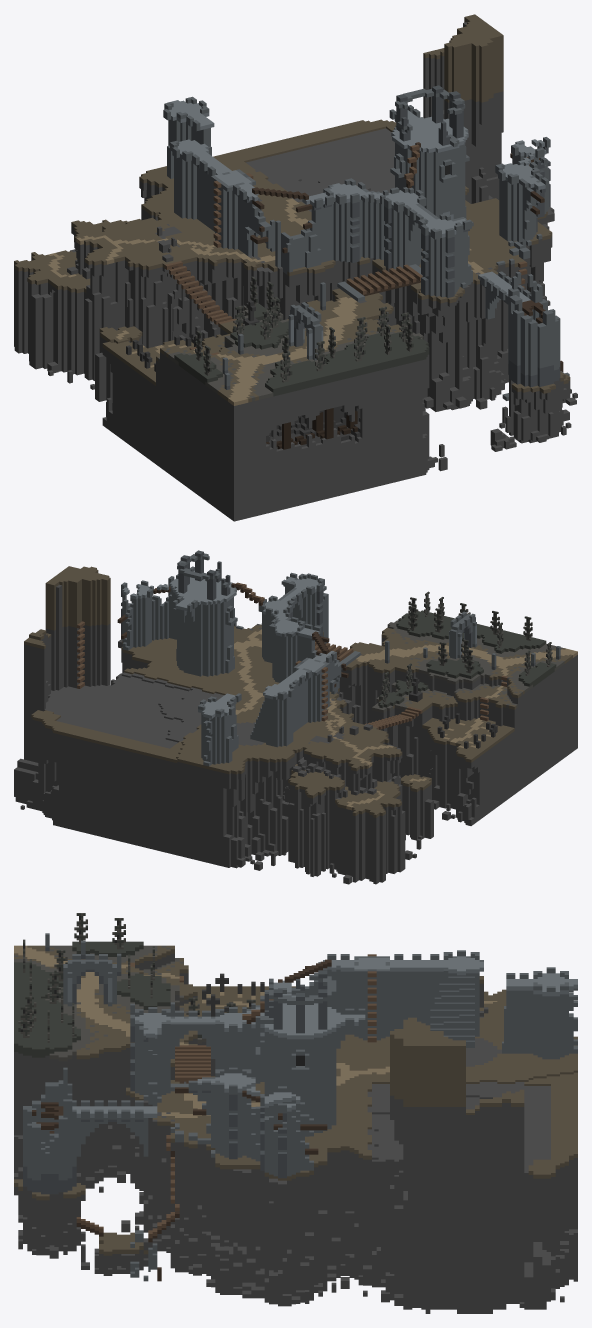
Rendered from Sunken City - Voxel Ruins 1-0-land.obj.
3 renders of one model, top to bottom at view 1: azimuth 30°, elevation 25°; view 2: azimuth 150°, elevation 25°; view 3: azimuth 270°, elevation 25°, orthographic. The views are drawn at different scales.
Parts seen in each view (by area): view 1: land; view 2: land; view 3: land.
Part boxes in pixels (x1,y1,x2,y2): land: (14,14,577,521); land: (14,550,577,884); land: (14,913,577,1313).
Bounding box in the file's own units: 25.2 × 13.2 × 25.2.
1 material, 1 textured.
